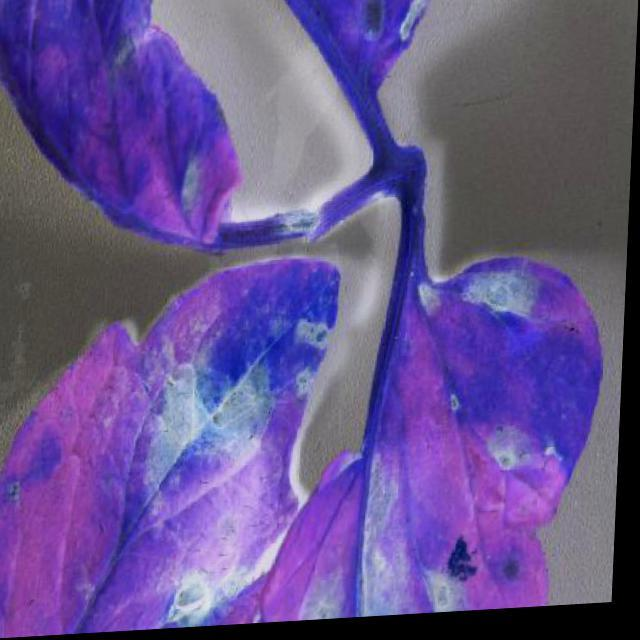Tomato Early blight leaf: (0, 253, 362, 638), (362, 240, 614, 620)
